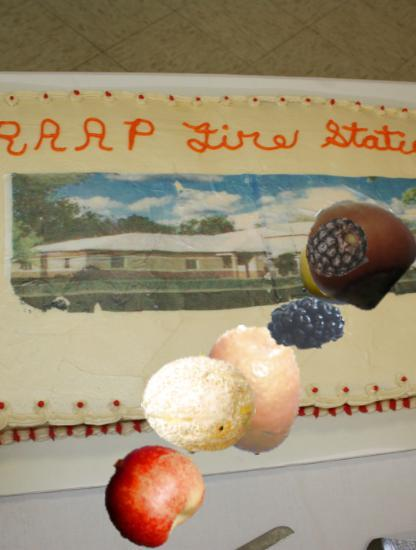Cantaloupe: (141, 346, 257, 462)
Kumquats: (188, 324, 319, 455)
Maracuja: (295, 227, 377, 309)
Mulberry: (266, 276, 353, 363)
Nectarine: (98, 440, 203, 545)
Nut: (302, 197, 410, 305)
Pineapple: (303, 213, 373, 283)
